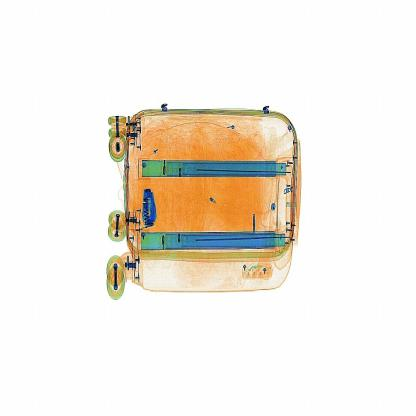scissors: (139, 184, 163, 230)
